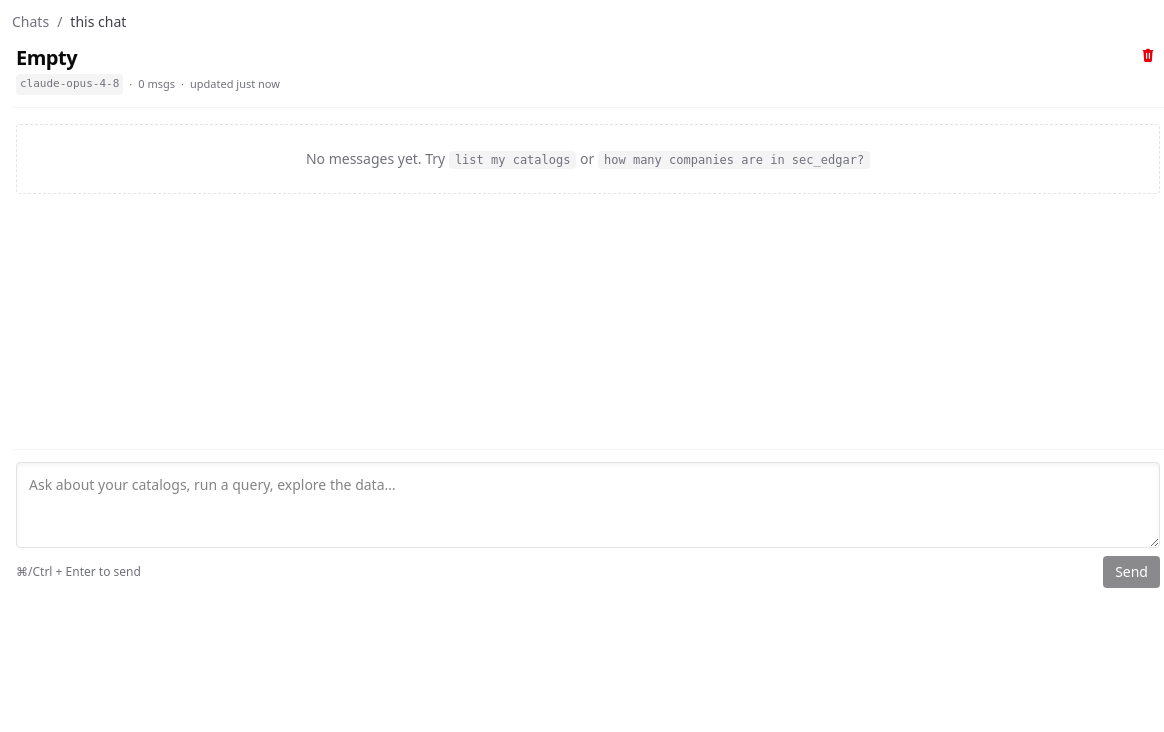
it: ChatDetail › streams text deltas and re-fetches the conversation when done
Expected: the button with test id "send-button" is shown, [1103, 556, 1160, 588]
In the text box with test id "message-input": (588, 505) [16, 462, 1160, 548], type "Hello Claude"
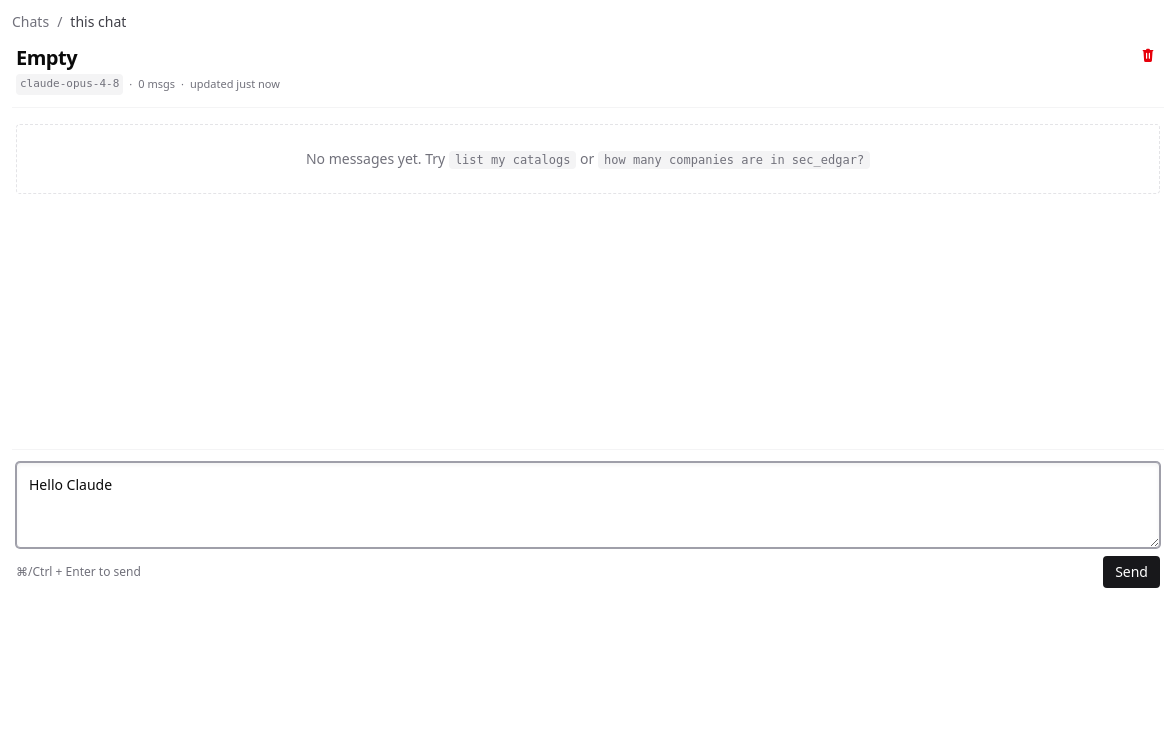
Click the button with test id "send-button": (1132, 572) [1103, 556, 1160, 588]
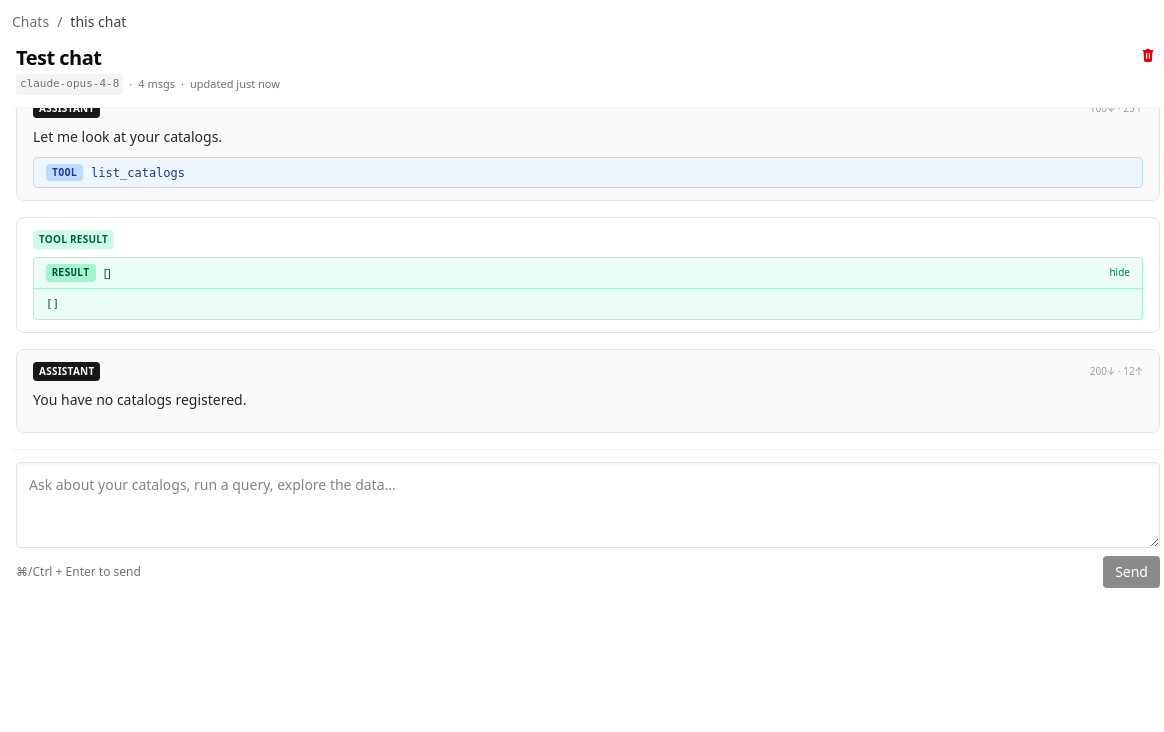
Expected: the text "You have no catalogs registered." is shown, [33, 390, 246, 409]
